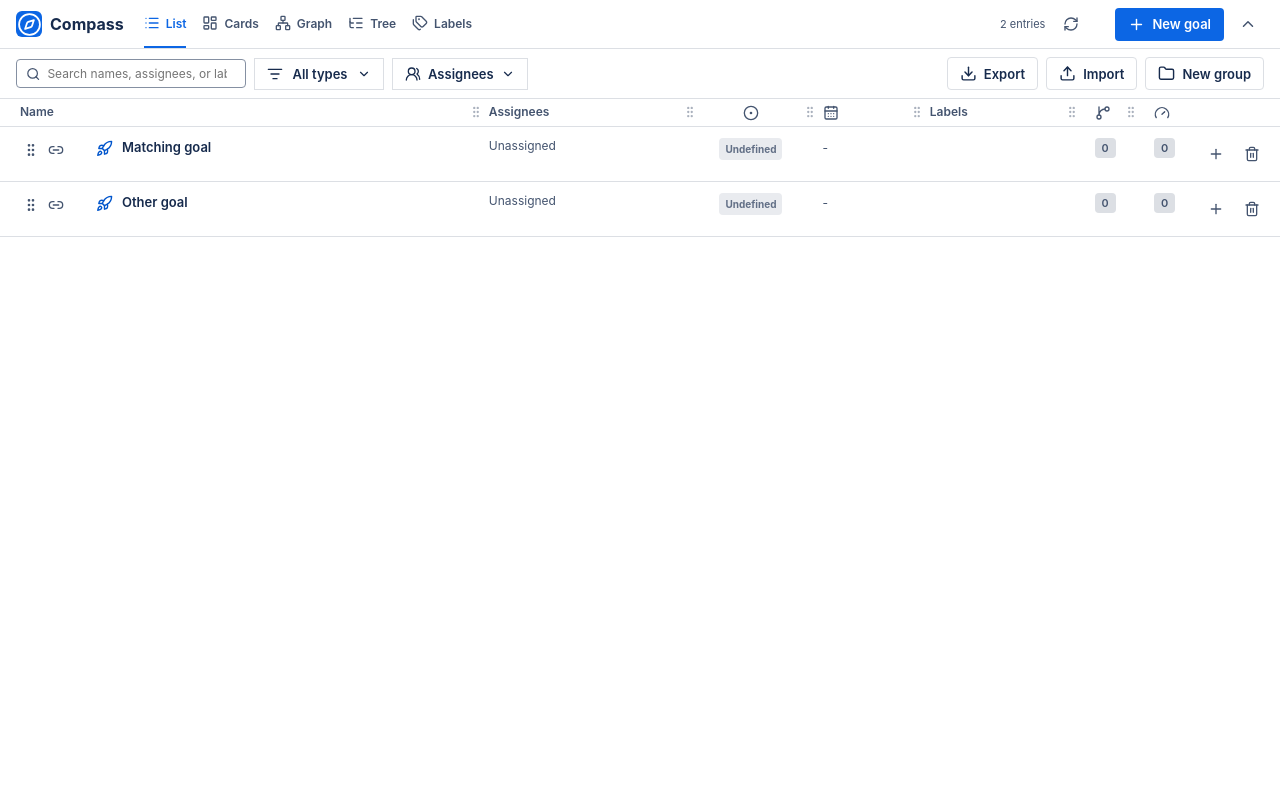
Test case: given a collapsed toolbar, active filters and actions remain available and the preference survives reopening
Type "Matching" into the search field named "Search workspace" at (146, 74), box [47,60,245,87]
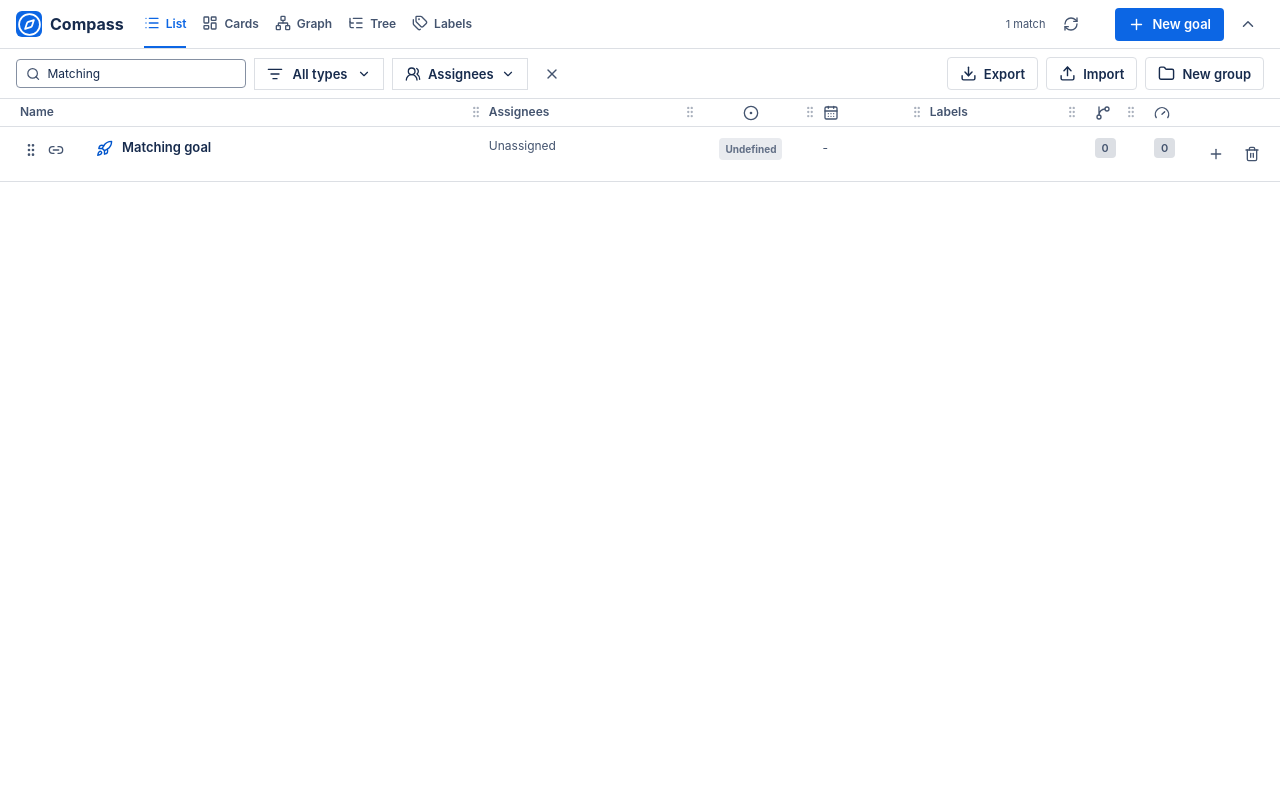
Click the button named "Collapse toolbar" at (1248, 24), box [1232,8,1264,40]
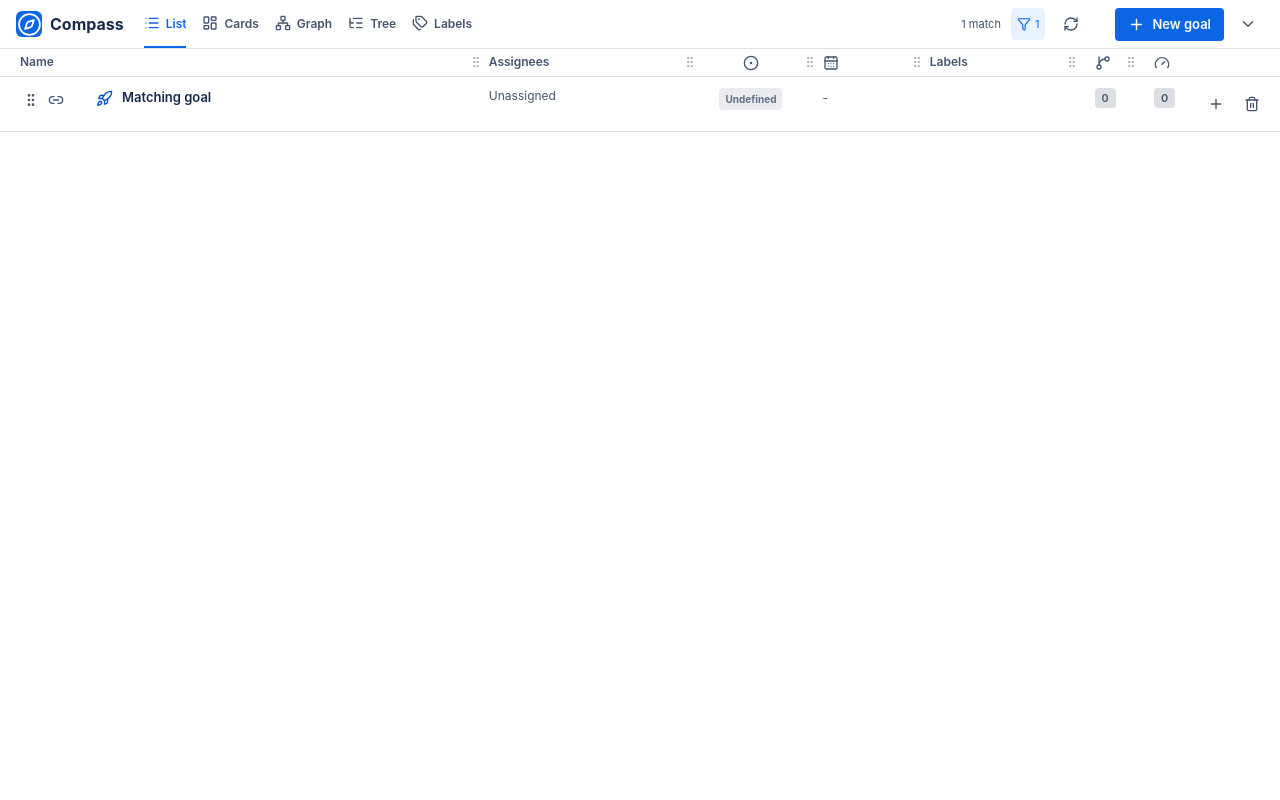
Expected: the row "Matching goal Unassigned Undefined - 0 0" is shown, [0,77,1279,131]
Expected: the button named "Collapse toolbar" is collapsed, [1232,8,1264,40]
Click the button named "Show 1 active filters" at (1028, 24), box [1011,8,1045,40]
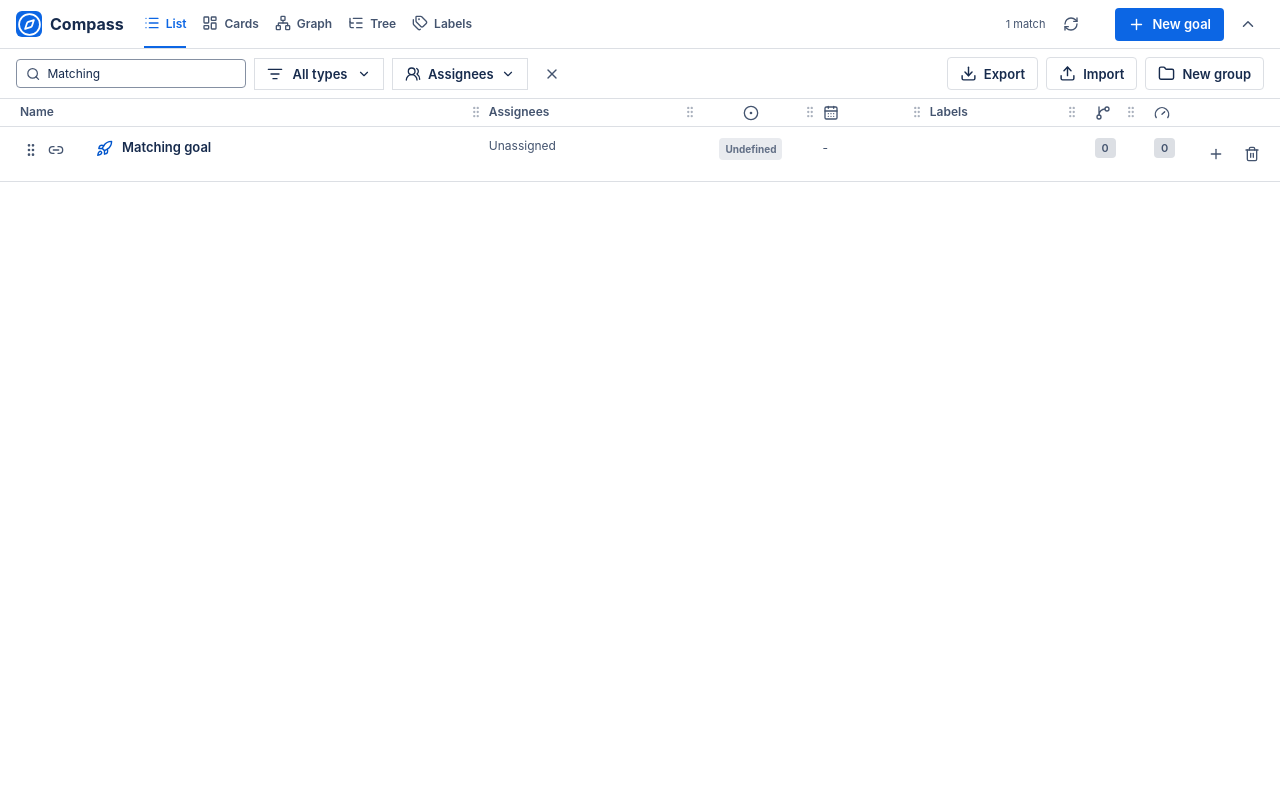
Click the button named "Clear filters" at (552, 74), box [536,58,568,90]
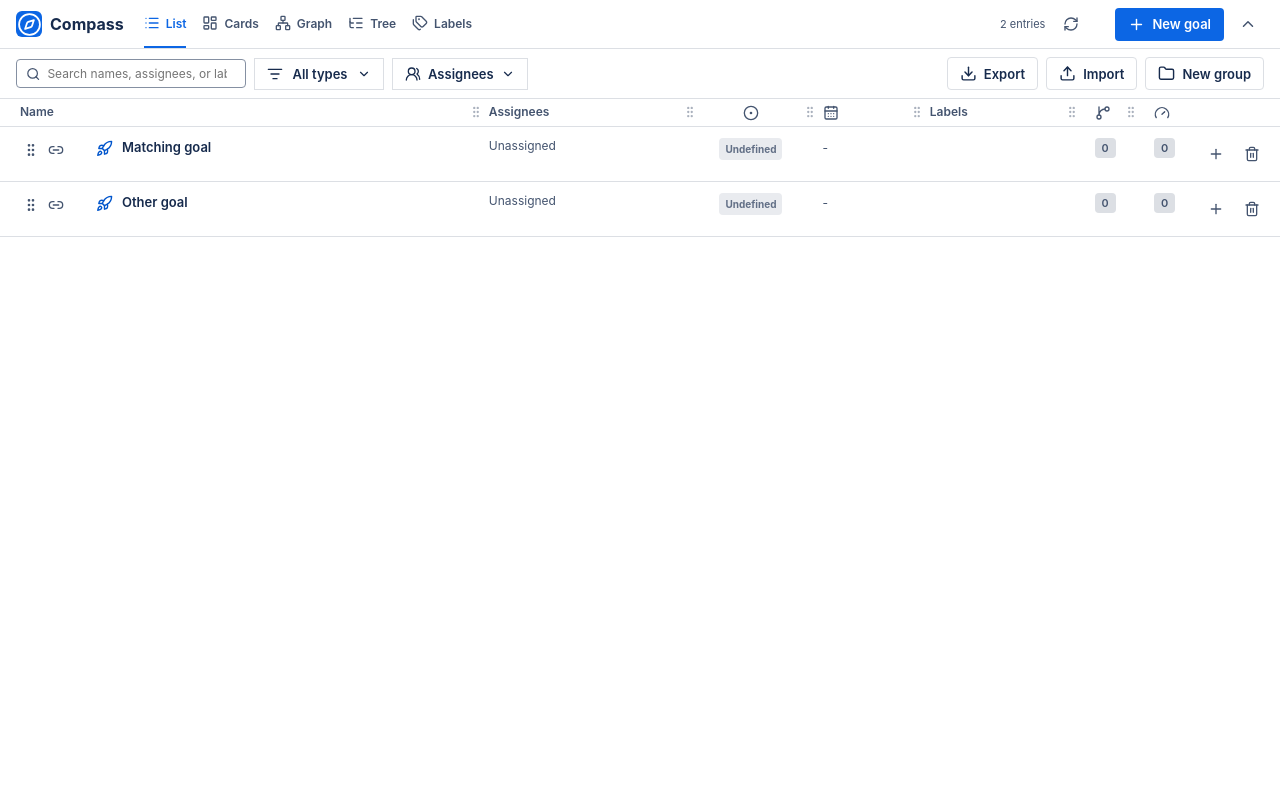
Expected: the row "Other goal Unassigned Undefined - 0 0" is shown, [0,181,1279,236]
Click the button named "Collapse toolbar" at (1248, 24), box [1232,8,1264,40]
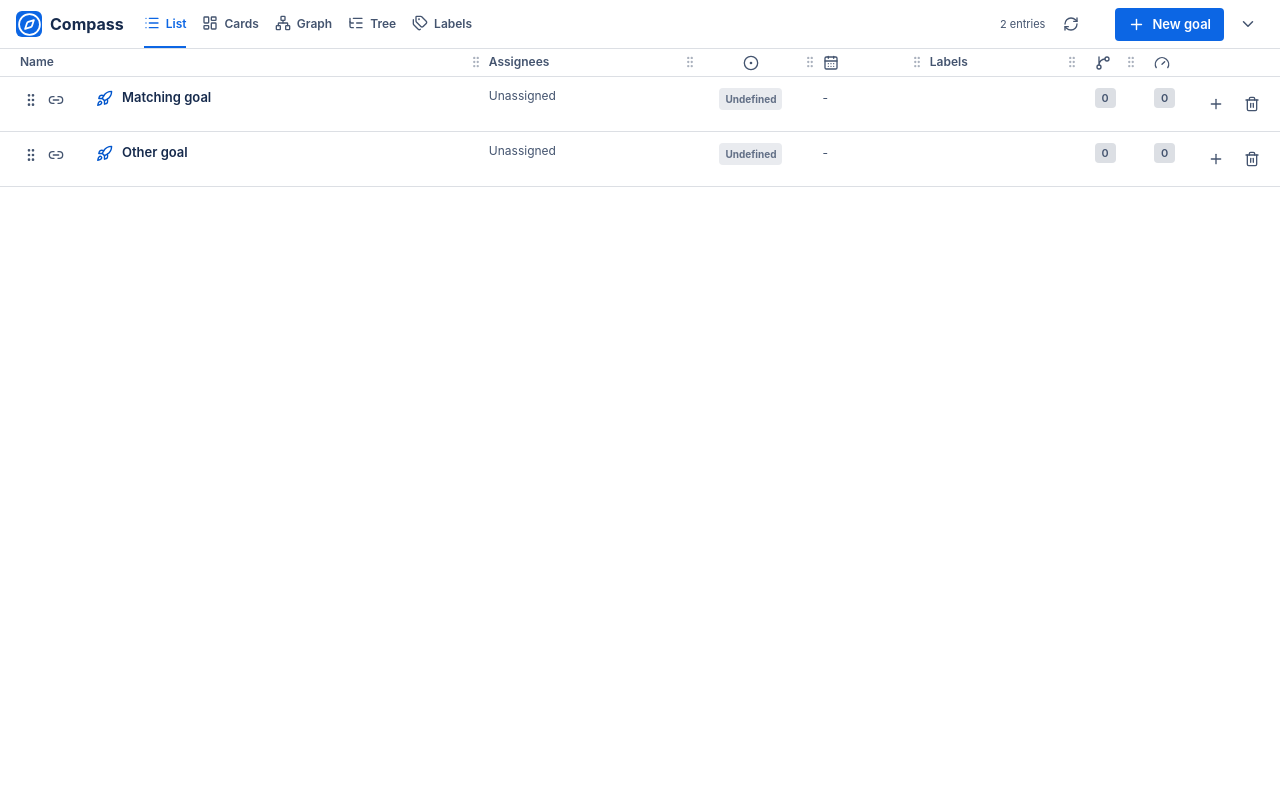
Click the button "New goal" at (1170, 24), box [1115,8,1224,40]
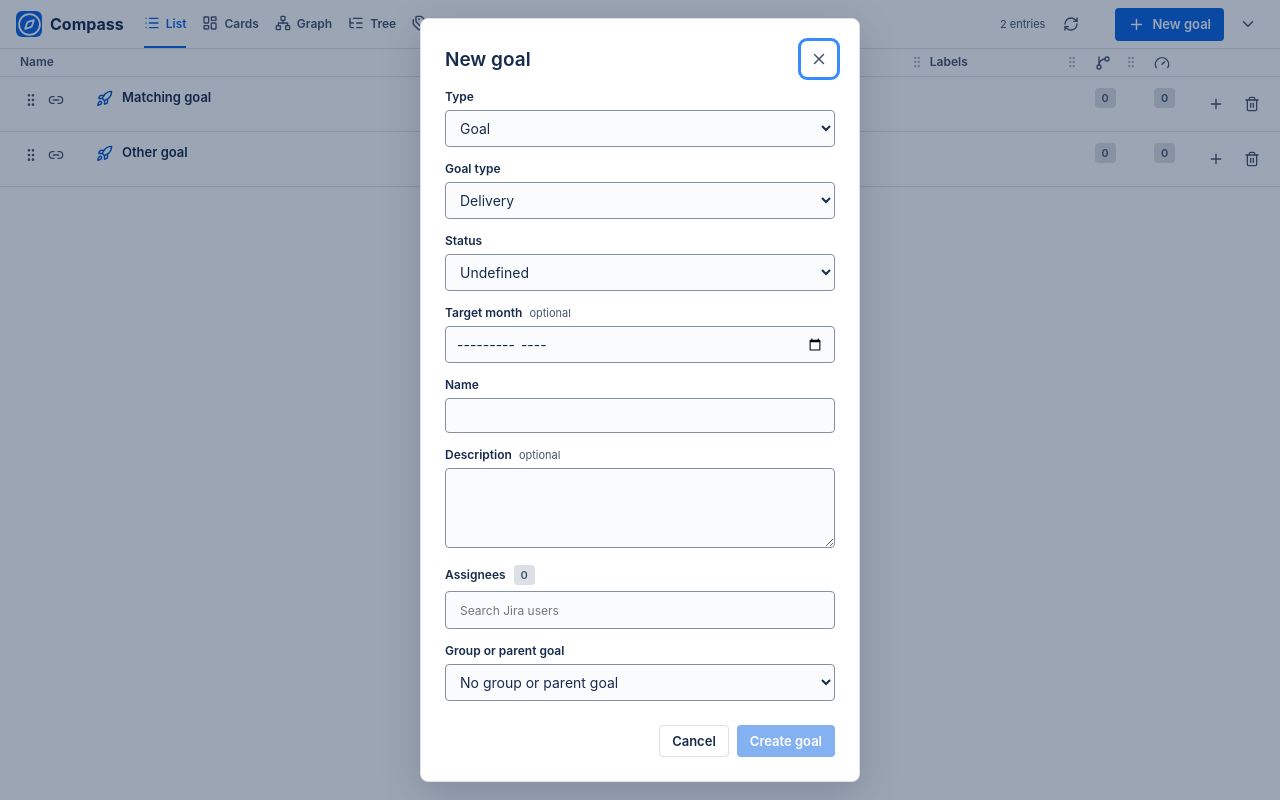
Expected: the dialog is shown, [420,18,860,782]
